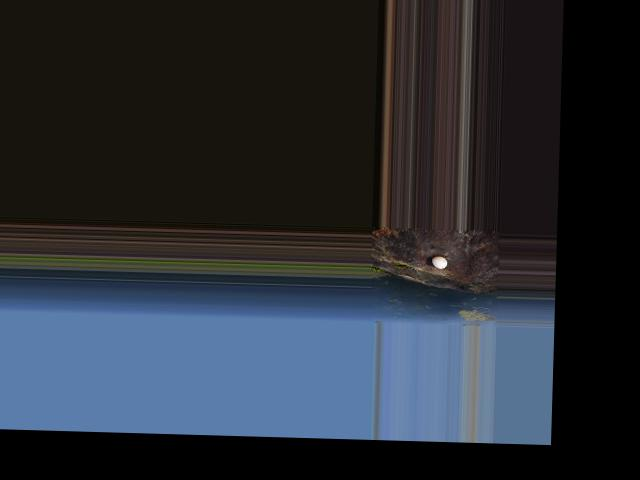egg: (432, 255, 448, 268)
